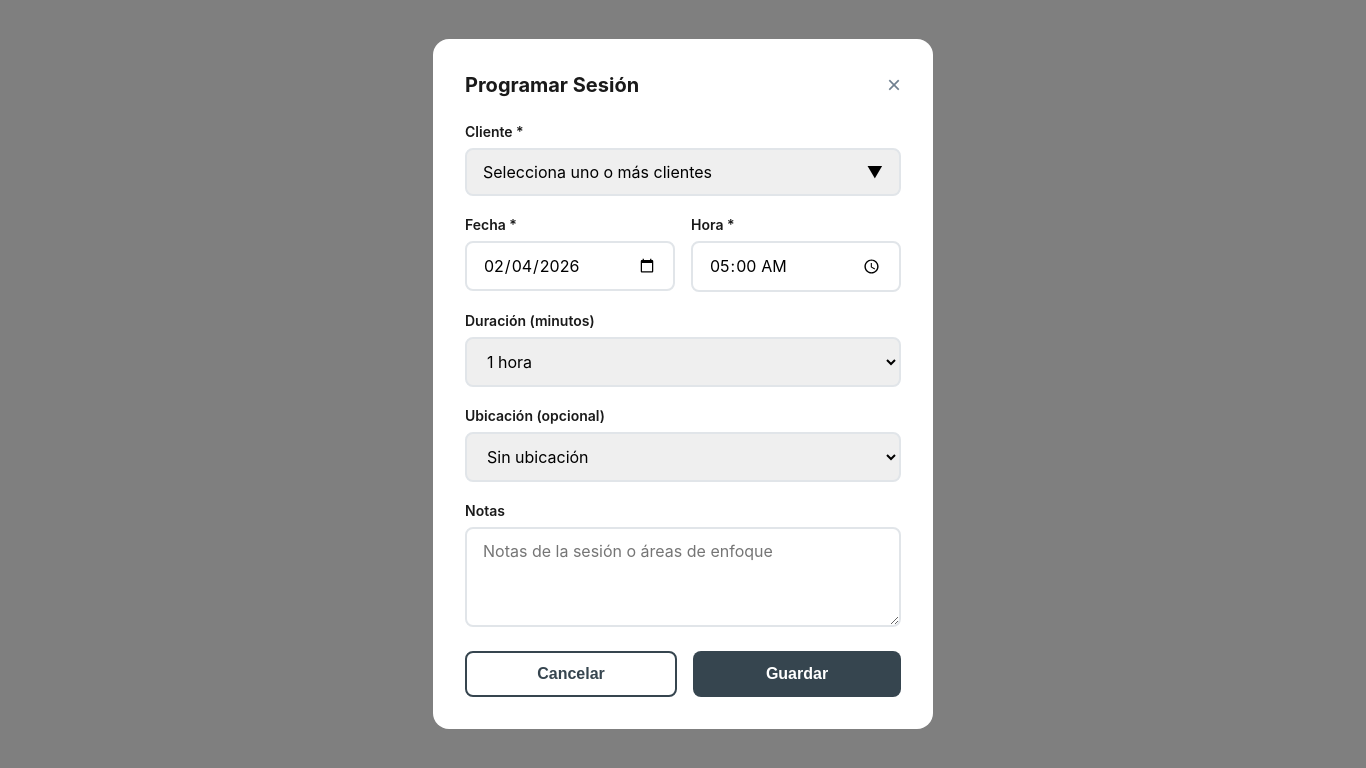
Scenario: SessionModal › closes dropdown when clicking "Listo"
Open dropdown
Click the text "Selecciona uno o más clientes" at (598, 172), box [483,162,712,182]
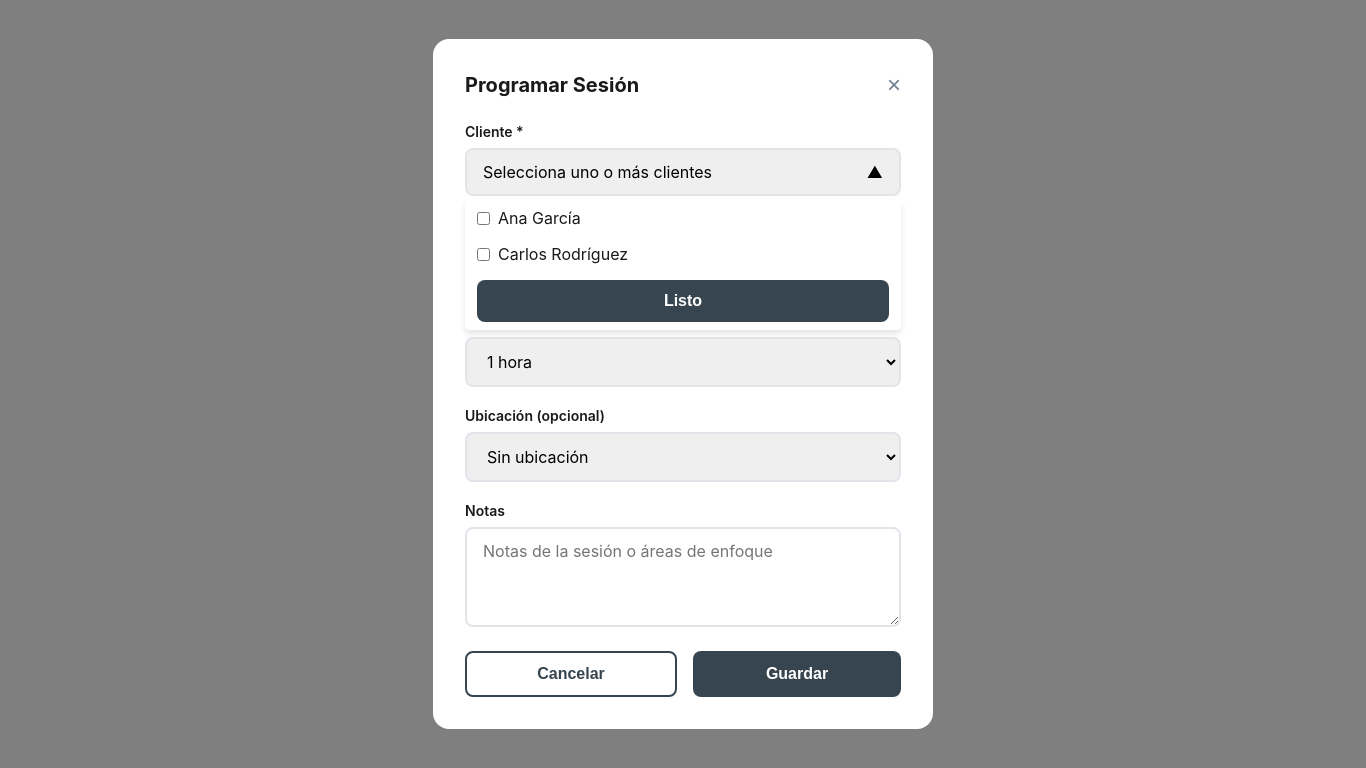
expect the button "Listo" is shown: met
Click Done
Click the button "Listo" at (683, 301), box [477,280,889,322]
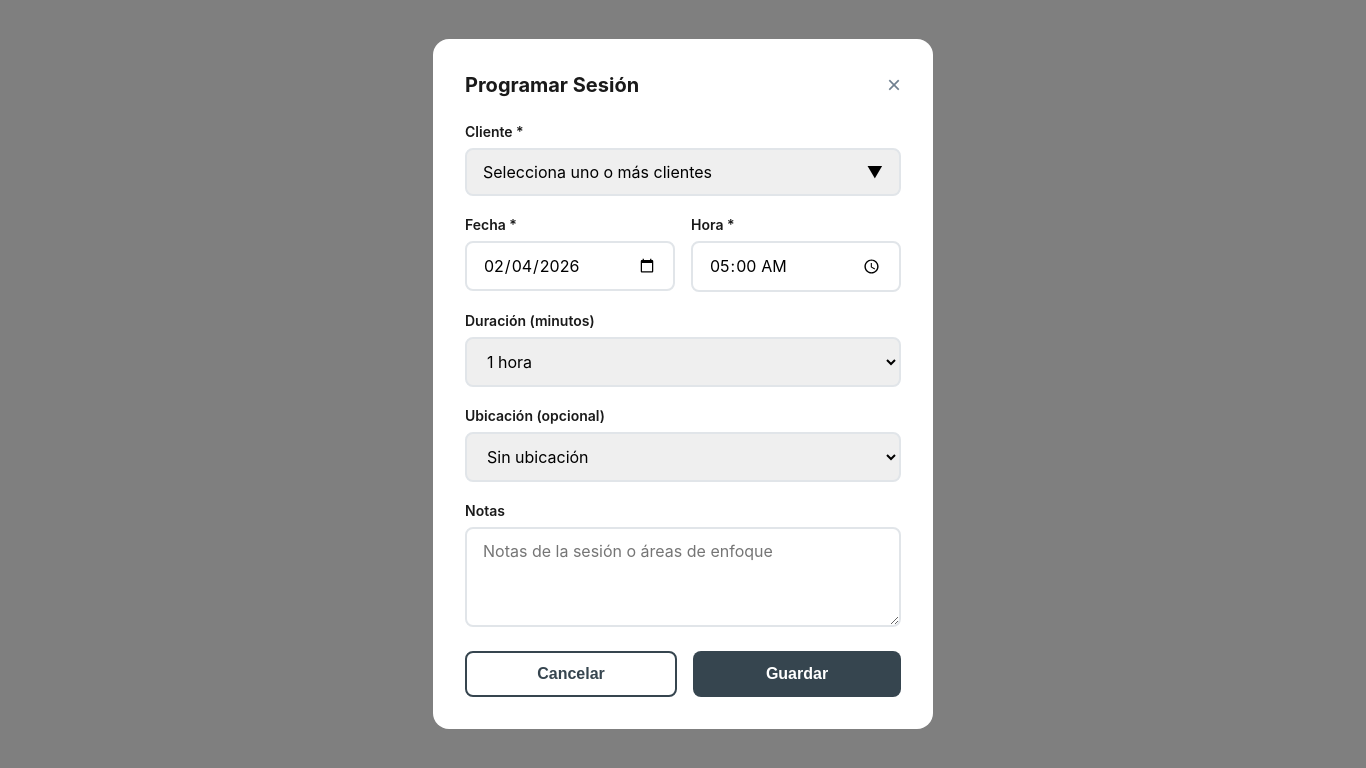
expect the button "Listo" is gone: met
